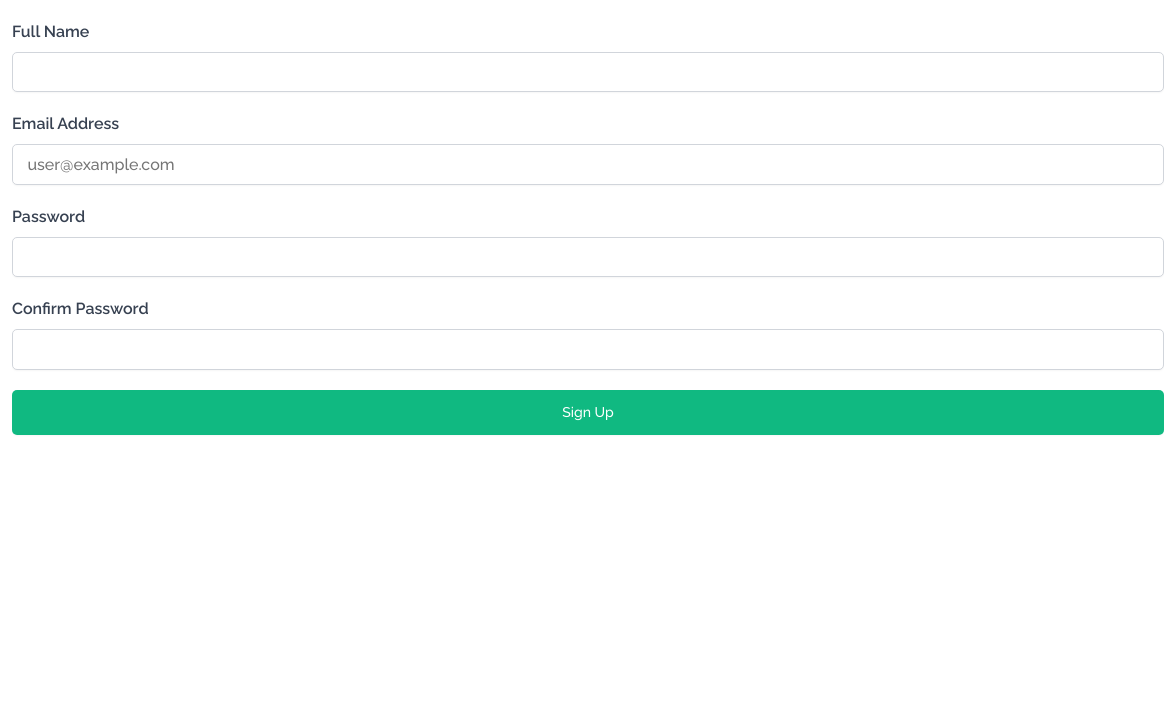
Scenario: CreateUserForm › should show error message if passwords do not match
In the password field labelled "Password": (588, 257) [12, 237, 1164, 277], type "test123"
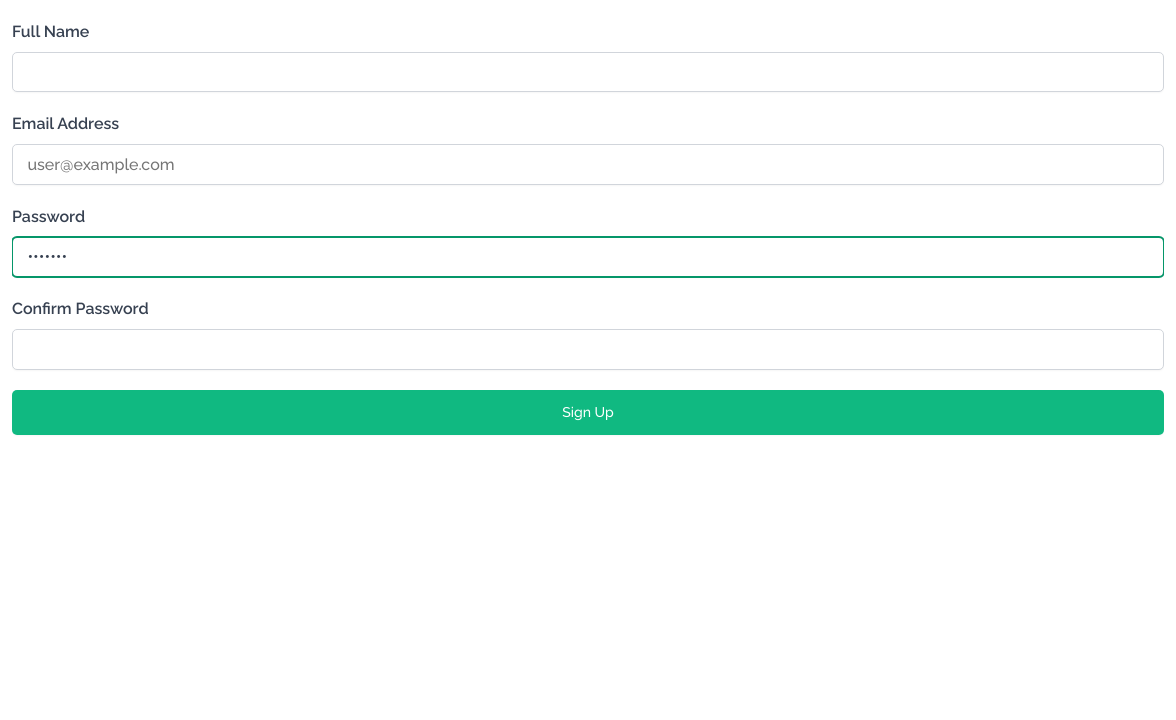
In the password field labelled "Confirm Password": (588, 349) [12, 329, 1164, 370], type "test123456"
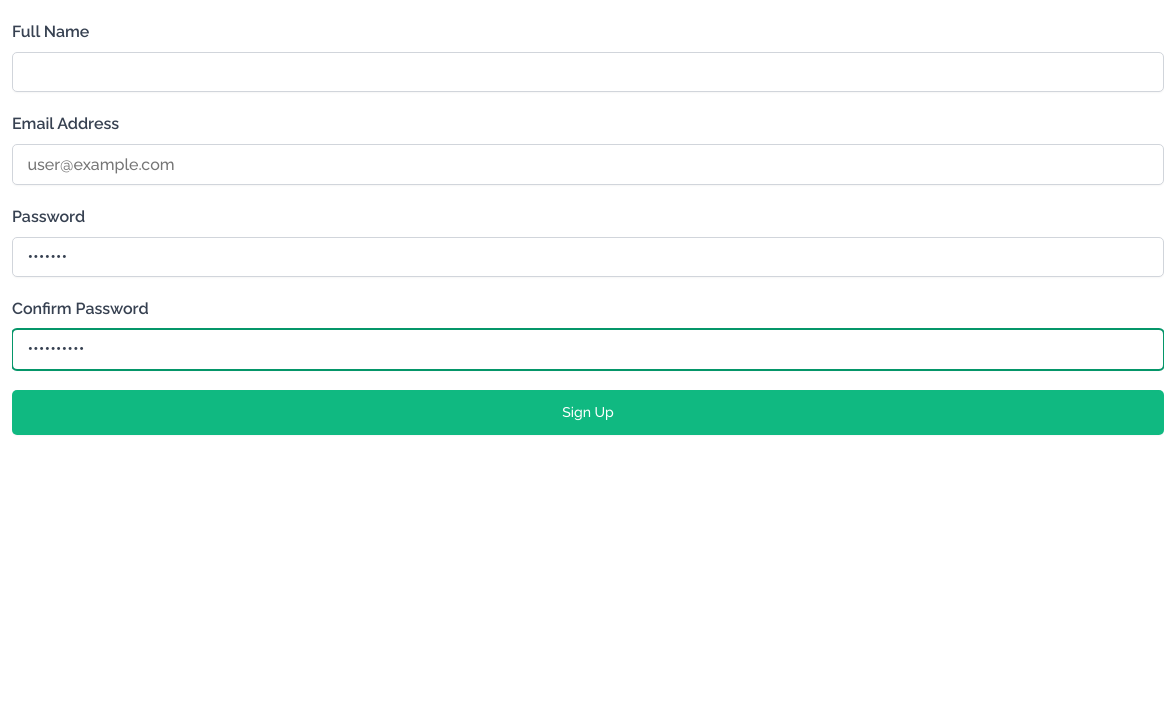
Click the button "Sign Up": (588, 412) [12, 390, 1164, 434]
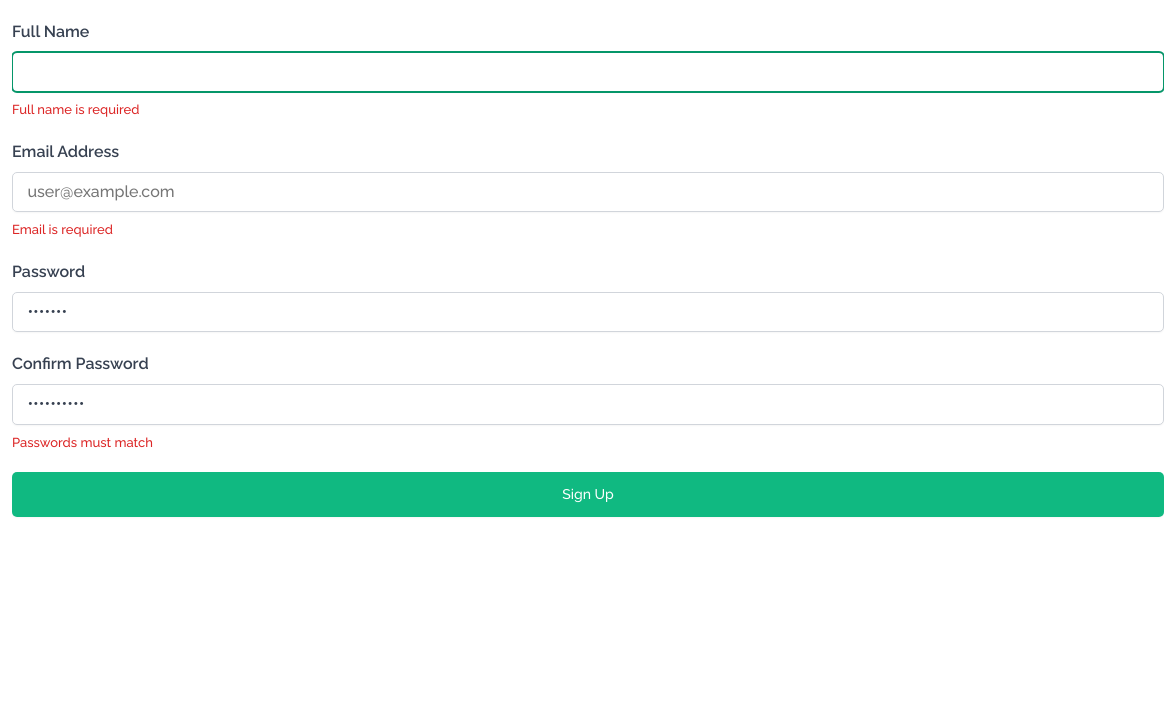
Expected: the text "Passwords must match" is shown, [12, 434, 153, 450]
